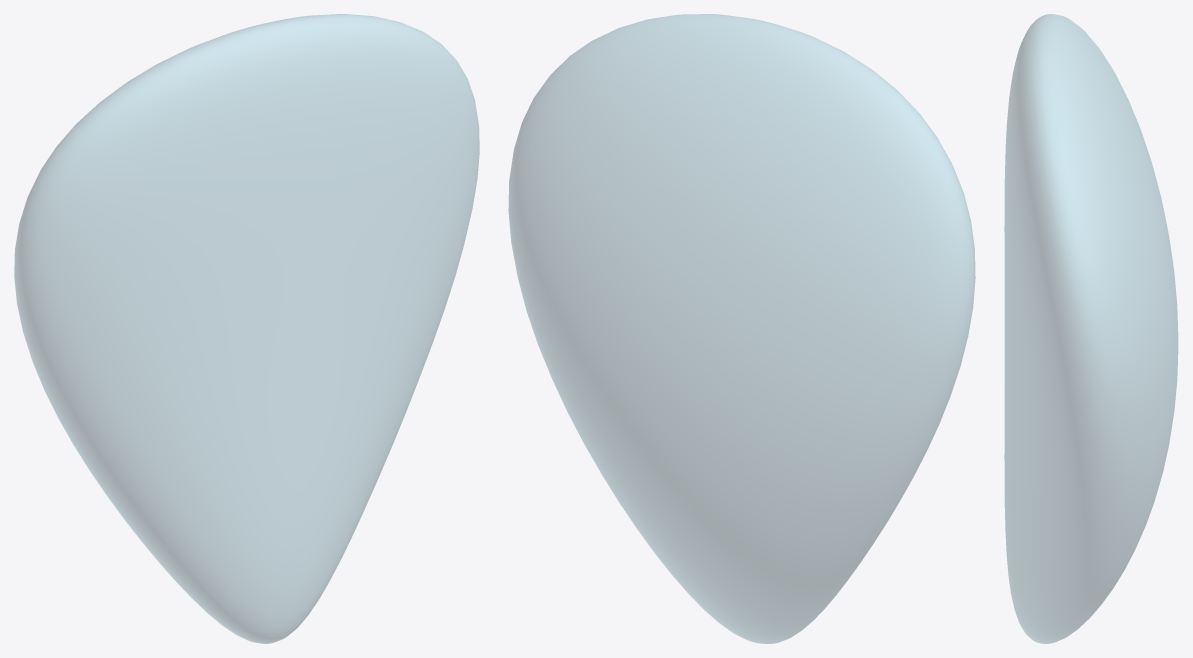
3 views of the same model, side by side, from view 1: azimuth 30°, elevation 25°; view 2: azimuth 150°, elevation 25°; view 3: azimuth 270°, elevation 25° (orthographic). The views are drawn at different scales.
Visible parts, largest first — view 1: gel-body; view 2: gel-body; view 3: gel-body.
Part boxes in pixels (x1,y1,x2,y2): gel-body: (14,14,479,643); gel-body: (508,14,975,643); gel-body: (1004,14,1178,643).
Size of the model in its own units: 1.29 by 1.66 by 0.4408.
